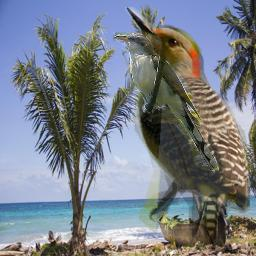Cuckoo: (113, 32, 219, 171)
Woodpecker: (125, 7, 250, 251)
